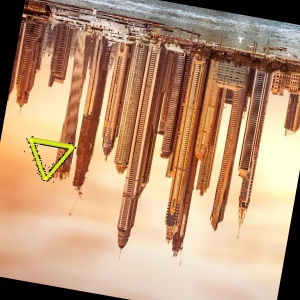triangle: (25, 134, 77, 185)
